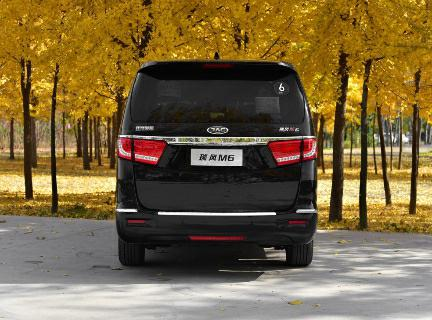江淮-瑞风M6: (112, 56, 323, 276)
